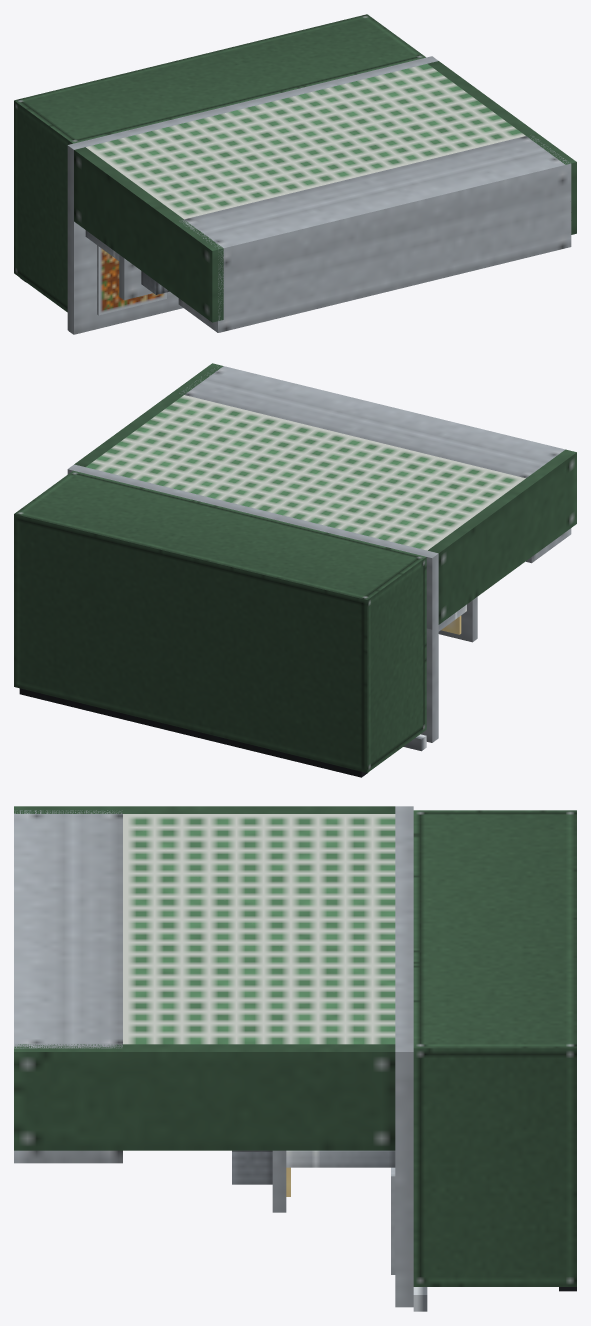
Rendered from mess_hall_mk4.obj.
The picture shows the model from 3 angles, top to bottom: view 1: azimuth 30°, elevation 25°; view 2: azimuth 150°, elevation 25°; view 3: azimuth 270°, elevation 25°; orthographic projection. The views are drawn at different scales.
Parts seen in each view (by area): view 1: mess_hall_mk4_Hood, mess_hall_mk4_Back_wall, mess_hall_mk4_Base, mess_hall_mk4_Side_R, mess_hall_mk4_Counter_top, mess_hall_mk4_Back_bench, mess_hall_mk4_Side_L, mess_hall_mk4_Pan_0, mess_hall_mk4_Gantry_shelf; view 2: mess_hall_mk4_Base, mess_hall_mk4_Back_wall, mess_hall_mk4_Hood, mess_hall_mk4_Side_R, mess_hall_mk4_Back_bench, mess_hall_mk4_Kick_plate, mess_hall_mk4_Side_L, mess_hall_mk4_Counter_top, mess_hall_mk4_Gantry_shelf; view 3: mess_hall_mk4_Base, mess_hall_mk4_Back_wall, mess_hall_mk4_Side_L, mess_hall_mk4_Hood, mess_hall_mk4_Back_bench, mess_hall_mk4_Side_R, mess_hall_mk4_Counter_top, mess_hall_mk4_Gantry_post_2, mess_hall_mk4_Cup_stack_B, mess_hall_mk4_Gantry_shelf.
Part boxes in pixels (bbox=[...]): mess_hall_mk4_Hood: bbox=[178, 135, 571, 332]; mess_hall_mk4_Back_wall: bbox=[86, 63, 525, 219]; mess_hall_mk4_Base: bbox=[14, 14, 425, 312]; mess_hall_mk4_Side_R: bbox=[74, 147, 223, 322]; mess_hall_mk4_Counter_top: bbox=[67, 217, 182, 334]; mess_hall_mk4_Back_bench: bbox=[67, 56, 438, 220]; mess_hall_mk4_Side_L: bbox=[428, 61, 576, 234]; mess_hall_mk4_Pan_0: bbox=[97, 245, 166, 315]; mess_hall_mk4_Gantry_shelf: bbox=[119, 255, 153, 300]; mess_hall_mk4_Base: bbox=[14, 470, 426, 772]; mess_hall_mk4_Back_wall: bbox=[86, 395, 525, 550]; mess_hall_mk4_Hood: bbox=[179, 366, 571, 563]; mess_hall_mk4_Side_R: bbox=[428, 449, 576, 624]; mess_hall_mk4_Back_bench: bbox=[67, 464, 438, 629]; mess_hall_mk4_Kick_plate: bbox=[19, 688, 367, 777]; mess_hall_mk4_Side_L: bbox=[74, 363, 223, 466]; mess_hall_mk4_Counter_top: bbox=[421, 625, 438, 742]; mess_hall_mk4_Gantry_shelf: bbox=[438, 597, 477, 642]; mess_hall_mk4_Base: bbox=[413, 810, 576, 1286]; mess_hall_mk4_Back_wall: bbox=[123, 814, 395, 1044]; mess_hall_mk4_Side_L: bbox=[14, 1044, 395, 1150]; mess_hall_mk4_Hood: bbox=[14, 810, 122, 1163]; mess_hall_mk4_Back_bench: bbox=[395, 806, 413, 1150]; mess_hall_mk4_Side_R: bbox=[14, 806, 395, 813]; mess_hall_mk4_Counter_top: bbox=[395, 1150, 413, 1307]; mess_hall_mk4_Gantry_post_2: bbox=[286, 1150, 395, 1167]; mess_hall_mk4_Cup_stack_B: bbox=[232, 1150, 272, 1184]; mess_hall_mk4_Gantry_shelf: bbox=[272, 1150, 286, 1212].
Size of the model in its own units: 2 by 1 by 1.94.
